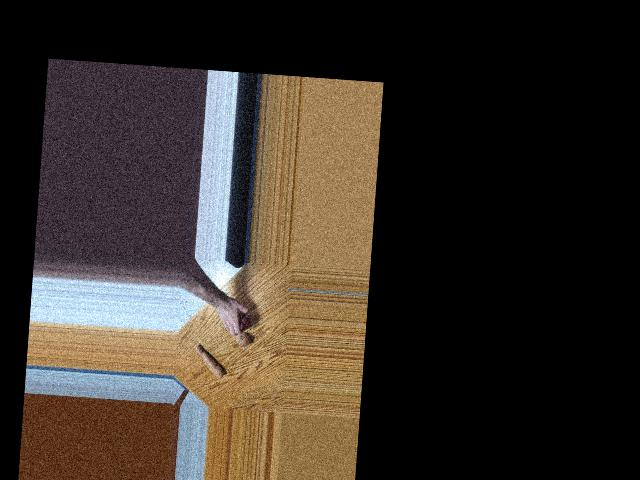onion: (234, 315, 250, 331)
